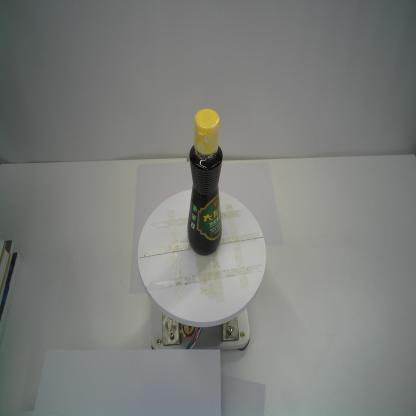Seasoner: (186, 108, 224, 256)
